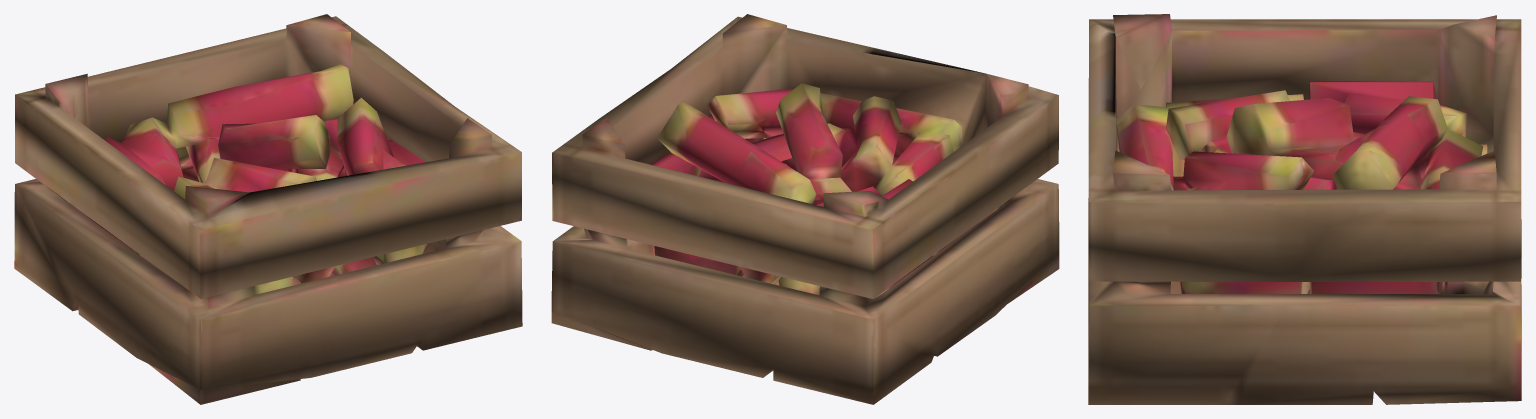
Rendered from shells.glb.
3 renders of one model, left to right at view 1: azimuth 30°, elevation 25°; view 2: azimuth 150°, elevation 25°; view 3: azimuth 270°, elevation 25°, orthographic. The views are drawn at different scales.
Visible parts, largest first — view 1: Mesh1.0; view 2: Mesh1.0; view 3: Mesh1.0.
Part boxes in pixels (x1,y1,x2,y2): Mesh1.0: [14, 14, 522, 404]; Mesh1.0: [551, 14, 1059, 404]; Mesh1.0: [1088, 14, 1521, 404].
Bounding box in the file's own units: 1.91 × 1.09 × 1.91.
1 material, 1 textured.
